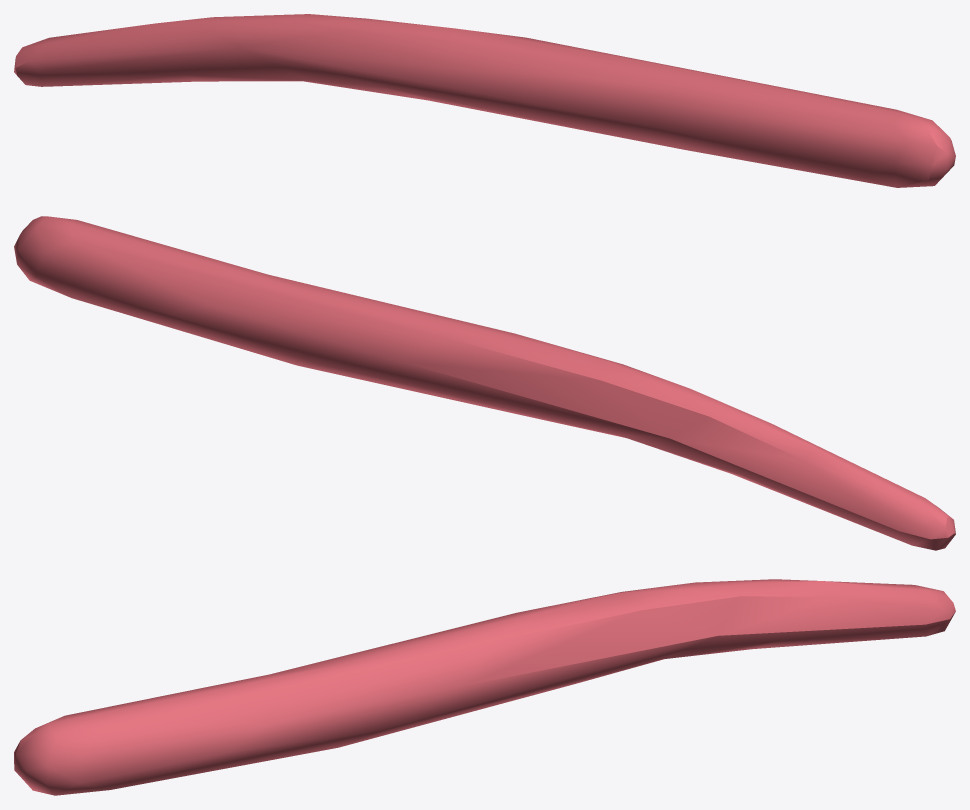
The model's file is fma8663_fj3023.glb.
3 views of the same model, one above another, from view 1: azimuth 30°, elevation 25°; view 2: azimuth 210°, elevation 25°; view 3: azimuth 270°, elevation 25° (orthographic). The views are drawn at different scales.
Visible parts, largest first — view 1: FMA8663_FJ3023; view 2: FMA8663_FJ3023; view 3: FMA8663_FJ3023.
Boxes of the visible parts, x1=… form: FMA8663_FJ3023: x1=14, y1=14, x2=955, y2=187; FMA8663_FJ3023: x1=14, y1=216, x2=955, y2=550; FMA8663_FJ3023: x1=14, y1=579, x2=955, y2=795.
Size of the model in its own units: 0.0273 by 0.00743 by 0.0395.
